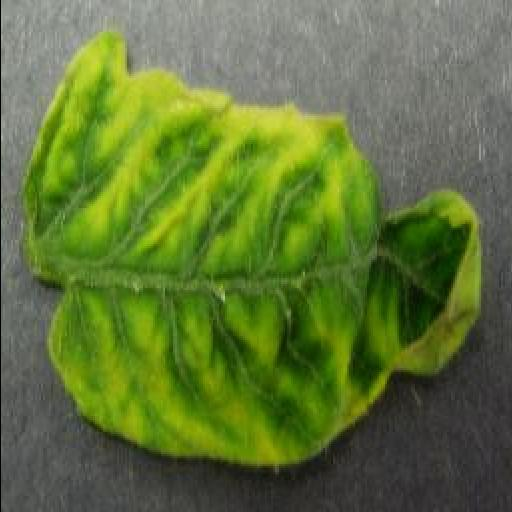disease_tomato: (22, 28, 478, 466)
